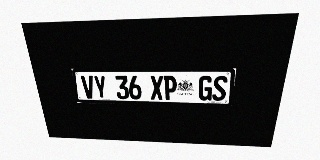3: (115, 76, 129, 99)
6: (128, 76, 142, 99)
G: (198, 76, 213, 101)
P: (163, 76, 177, 100)
S: (212, 76, 228, 101)
V: (81, 76, 96, 99)
X: (150, 76, 163, 100)
Y: (93, 76, 108, 99)
